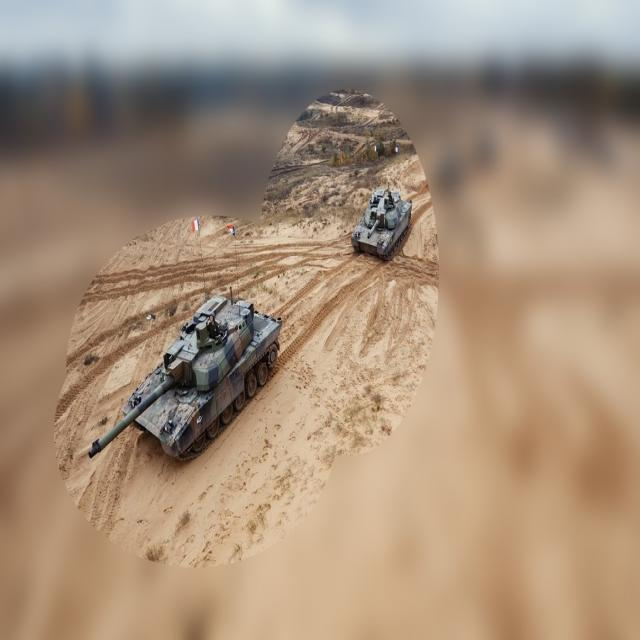tank: (90, 294, 283, 460), (351, 188, 413, 260)
